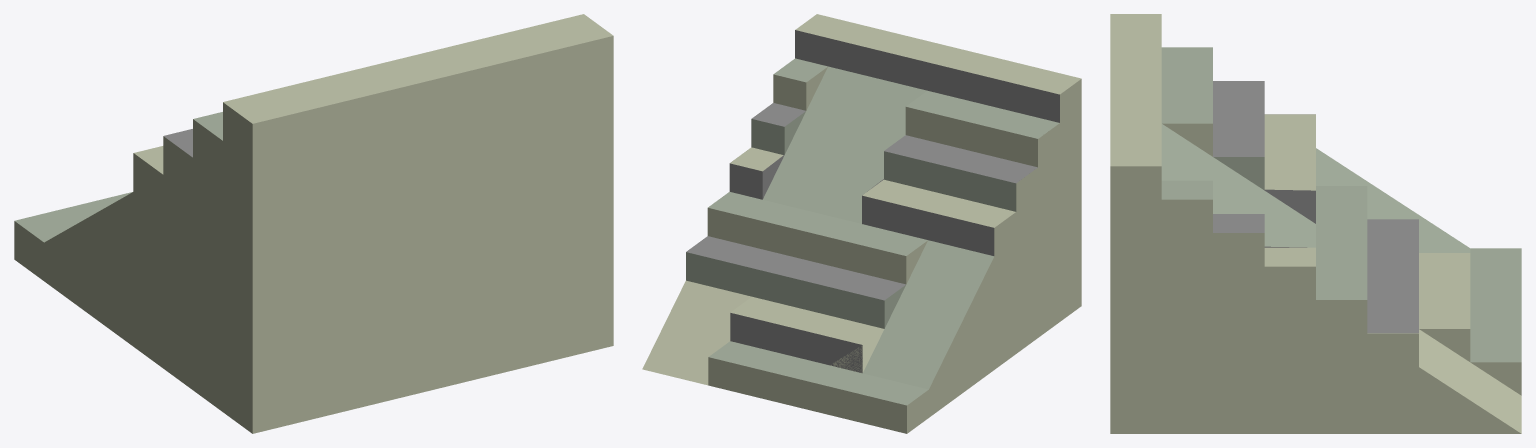
File: Escaliers mat 2.fbx
3 renders of one model, left to right at view 1: azimuth 30°, elevation 25°; view 2: azimuth 150°, elevation 25°; view 3: azimuth 270°, elevation 25°, orthographic. The views are drawn at different scales.
Parts seen in each view (by area): view 1: Stairs V0.3.004; view 2: Stairs V0.3.004; view 3: Stairs V0.3.004.
Part boxes in pixels (left/top/right/bottom): Stairs V0.3.004: left=14, top=14, right=613, bottom=433; Stairs V0.3.004: left=642, top=14, right=1081, bottom=433; Stairs V0.3.004: left=1110, top=14, right=1521, bottom=433.
Bounding box in the file's own units: 142 × 117 × 163.
